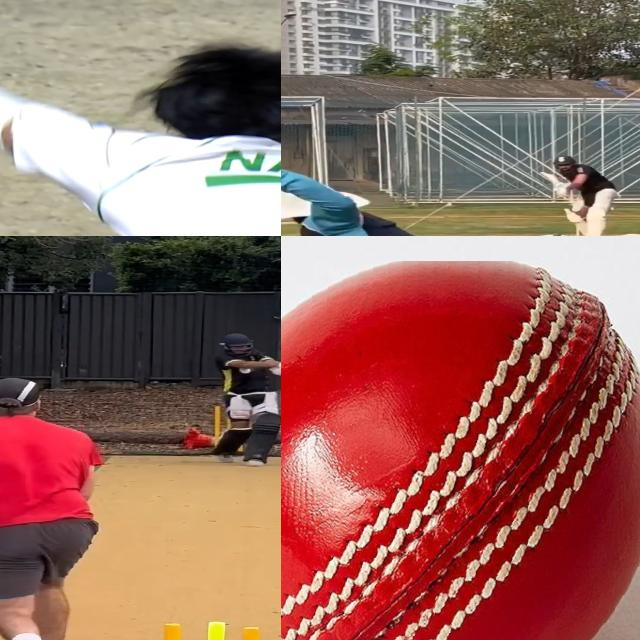Cricket ball: (281, 261, 640, 640), (552, 232, 561, 236)
